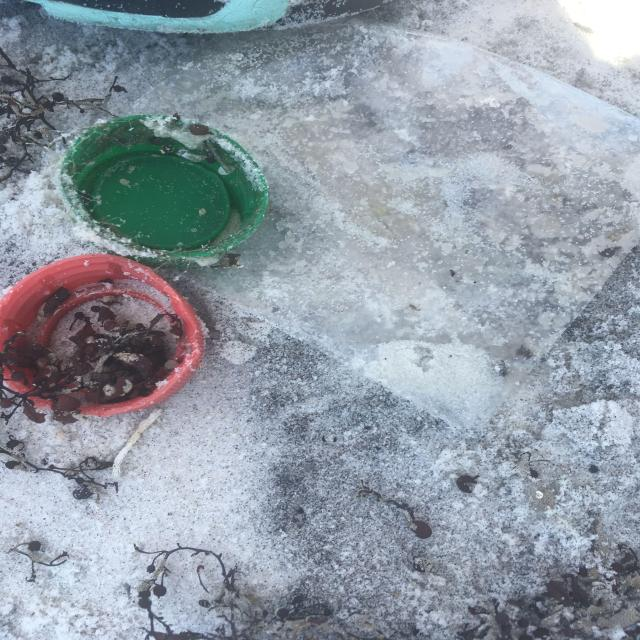litter: (0, 254, 202, 414), (64, 116, 267, 257)
